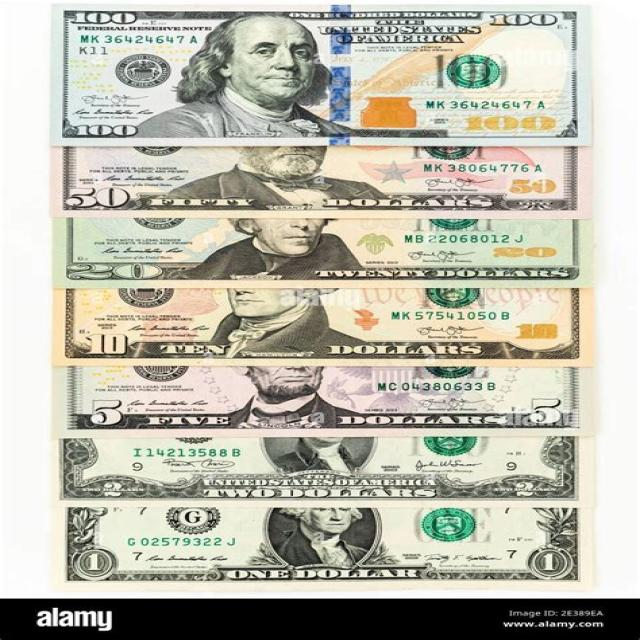Fifty: (49, 147, 592, 218)
Five: (51, 365, 594, 438)
Hundred: (52, 3, 592, 147)
One: (48, 506, 595, 591)
Ten: (51, 288, 591, 366)
Twenty: (52, 218, 590, 288)
Two: (51, 437, 596, 508)
